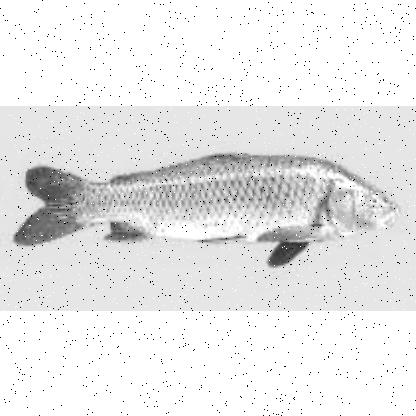ikan-mas: (15, 144, 399, 250)
